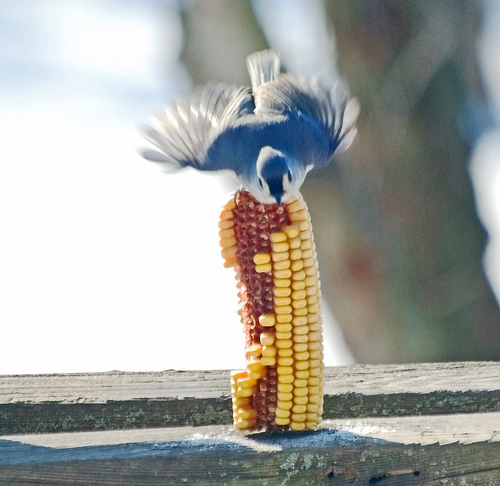corn: (215, 192, 327, 430)
